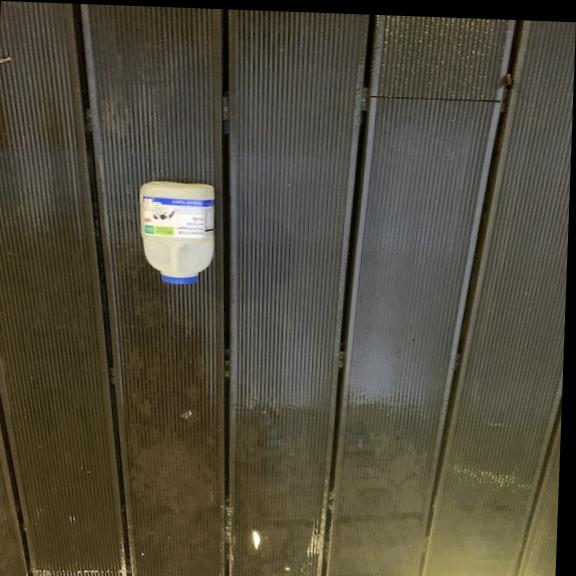Plastik: (133, 177, 220, 286)
